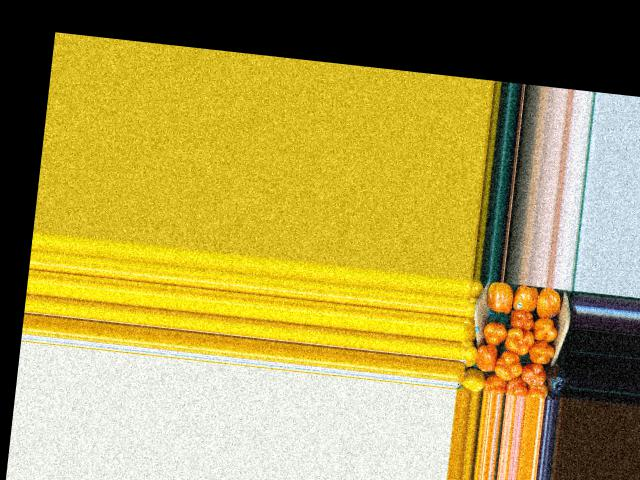bell_pepper: (461, 336, 478, 368)
